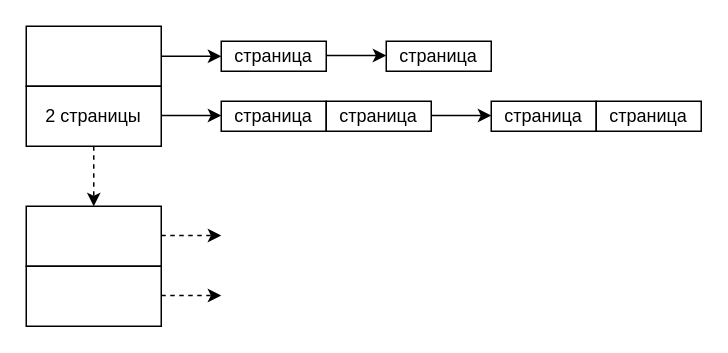
The diagram is 728 pixels wide and 353 high, and some of its shapes have lost their labels. Here are the shapes that lost their labels. From the top down, the box of each, then its label:
(25, 25, 161, 86): 1 страница
(25, 205, 161, 266): 255 страниц
(25, 265, 161, 326): Другие размеры
